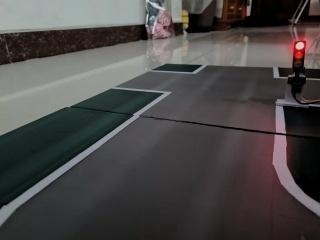red: (284, 33, 309, 80)
